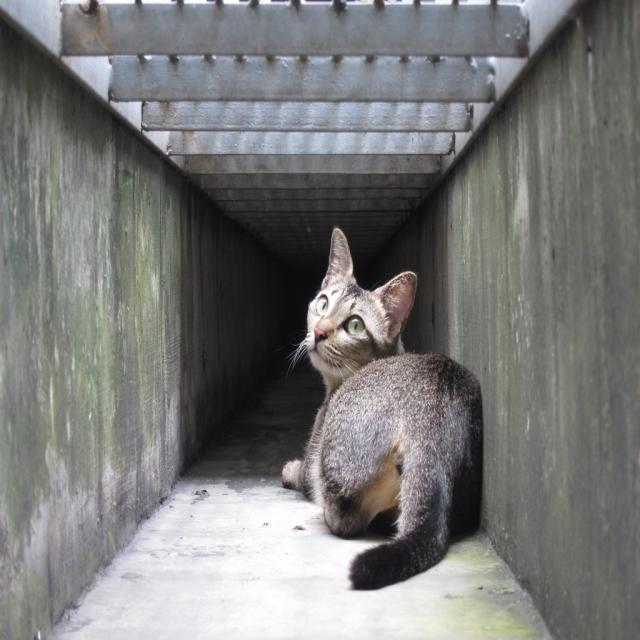Cat: (277, 228, 482, 592)
